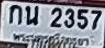letters: (24, 5, 40, 27), (49, 6, 63, 29), (9, 4, 23, 26), (76, 8, 90, 30), (63, 7, 76, 29), (90, 9, 103, 31)
province: (12, 32, 90, 46)
